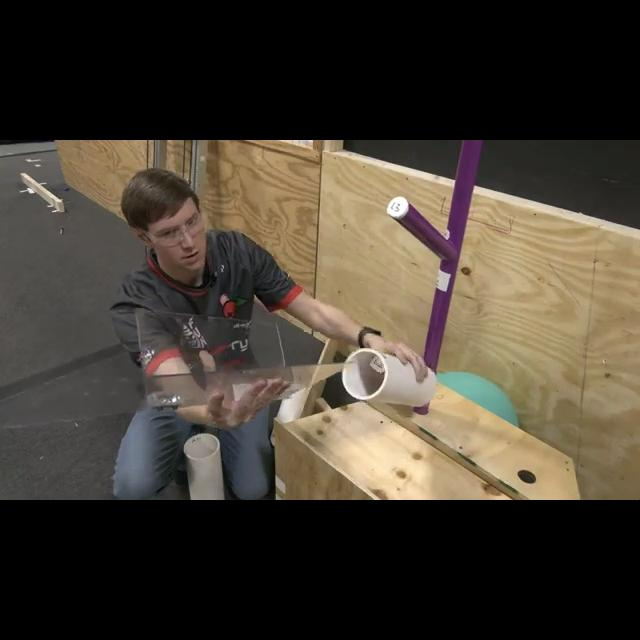CORAL: (339, 346, 436, 408), (183, 432, 225, 500)
